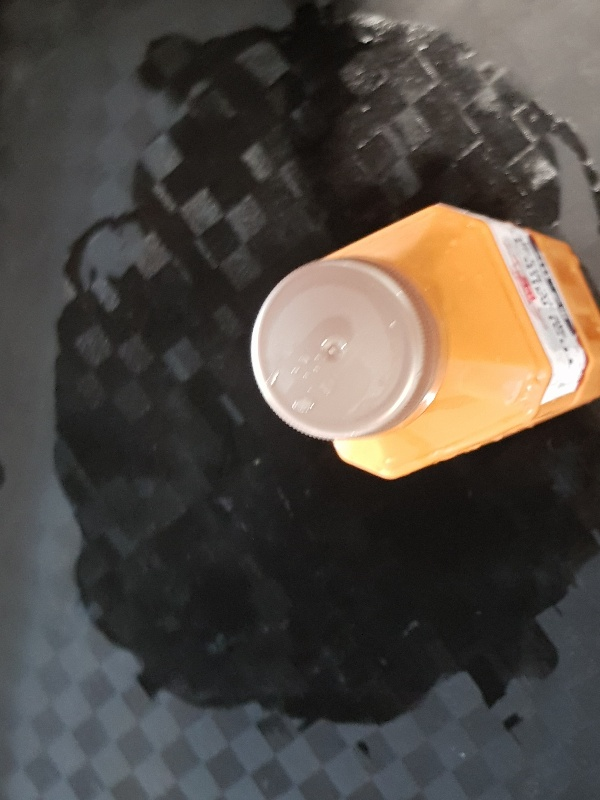Thai Milk Tea: (249, 201, 600, 482)
